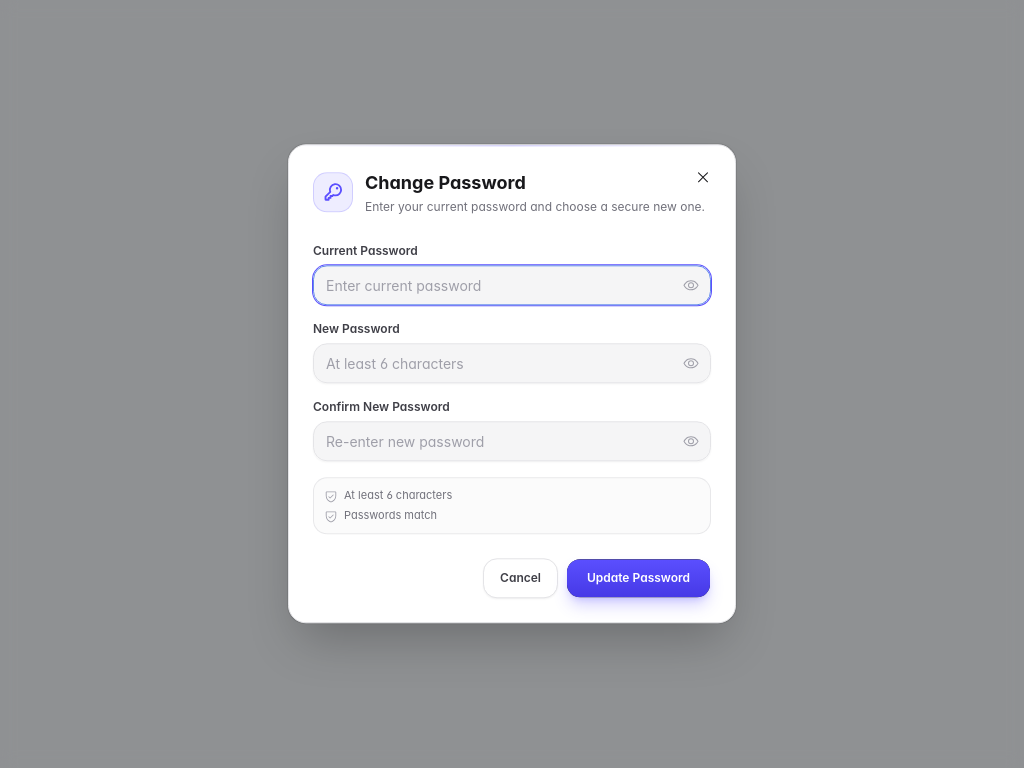
Test: ChangePasswordModal › validates minimum length for new password
In the password field with placeholder "Enter current password": (512, 285) left=313, top=265, right=711, bottom=305, type "current123"
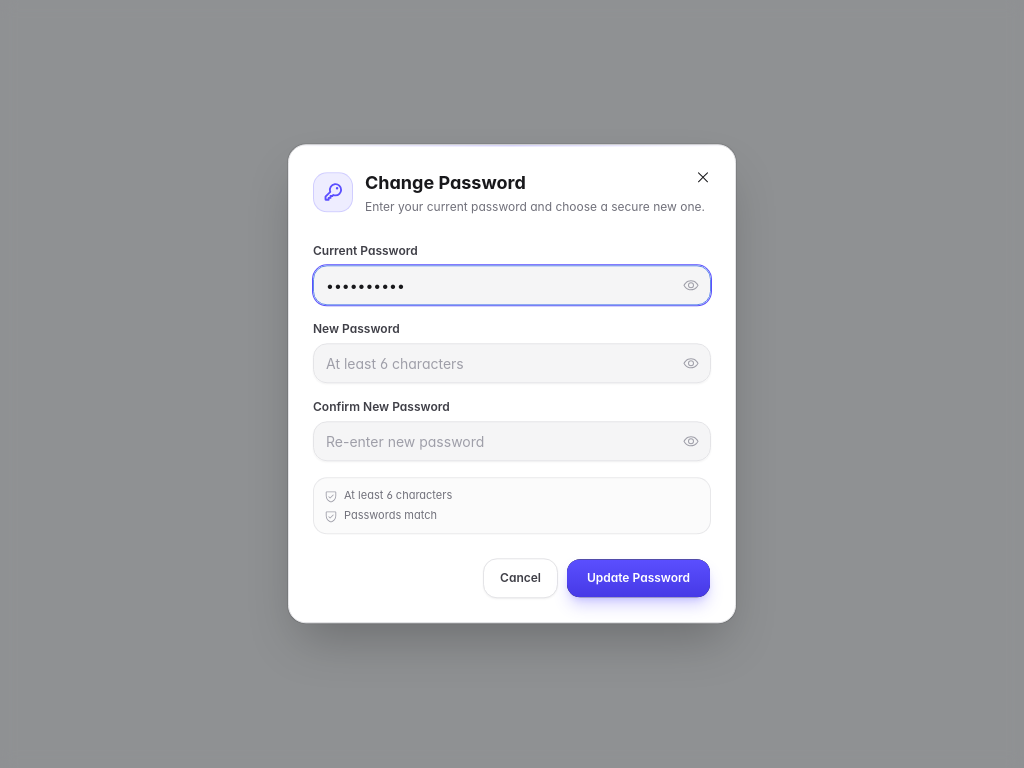
In the password field with placeholder "At least 6 characters": (512, 363) left=313, top=343, right=711, bottom=383, type "123"
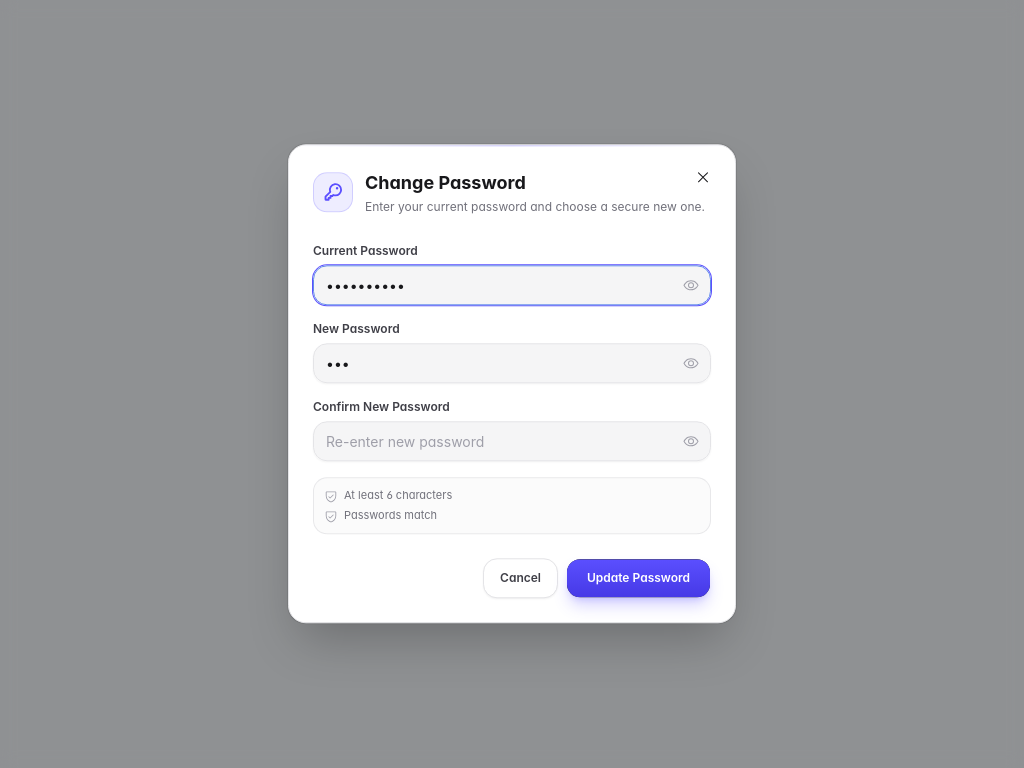
In the password field with placeholder "Re-enter new password": (512, 441) left=313, top=421, right=711, bottom=461, type "123"
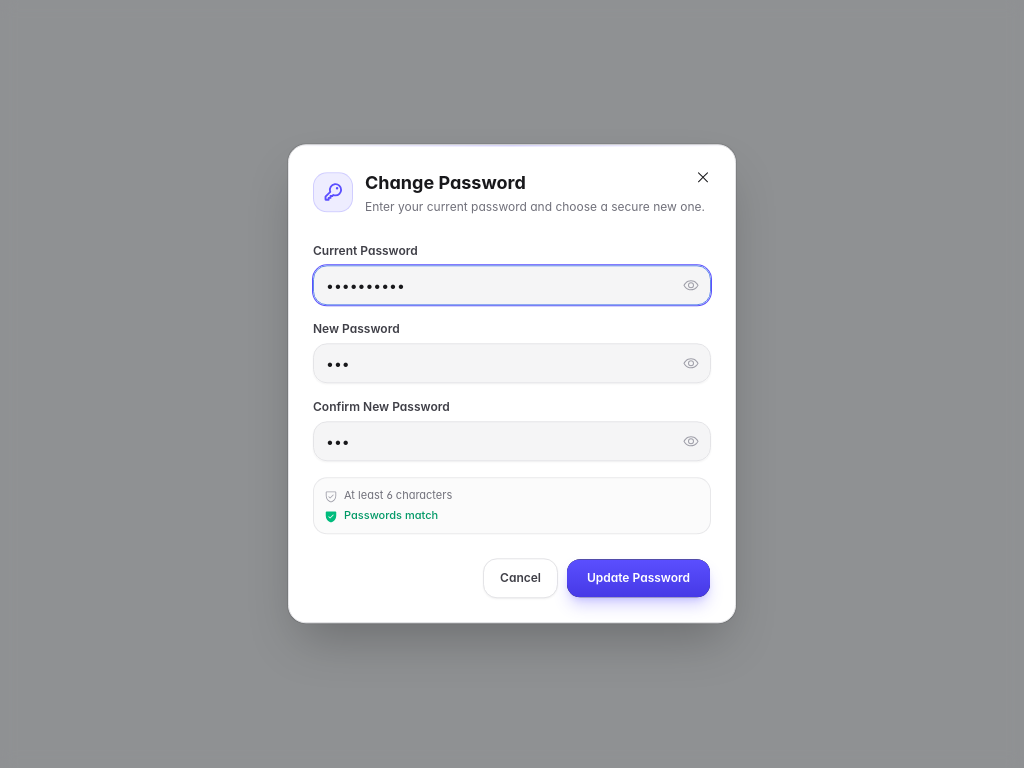
Click the button "Update Password": (638, 579) left=566, top=559, right=711, bottom=599
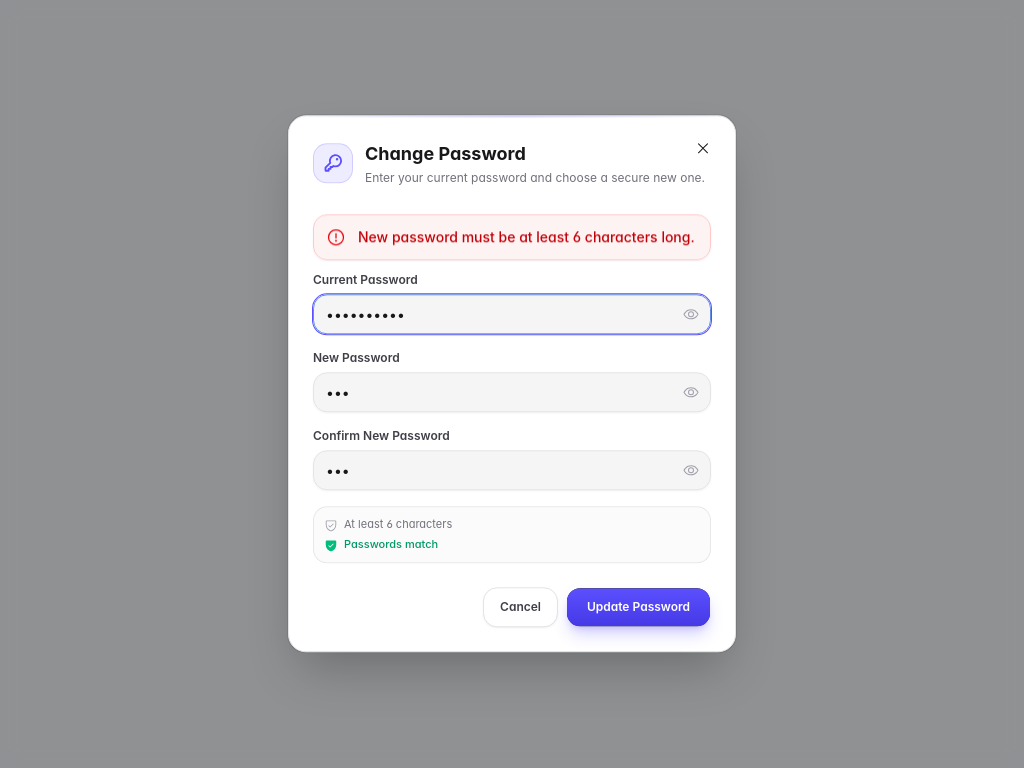
Check: the text "New password must be at least 6 characters long." is shown, box left=358, top=228, right=695, bottom=247
